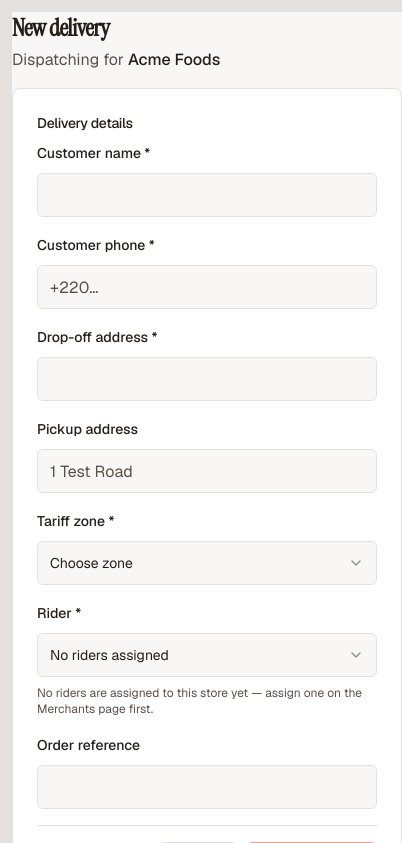
Test: NewDeliveryPage tariff zones › populates the zone dropdown from those rows
The width and height of the screenshot is (402, 843).
What coordinates should you click on to do the following:
click the dropdown named "Tariff zone *"
I would click on:
 (91, 563)
Its box is [37,541,377,585].
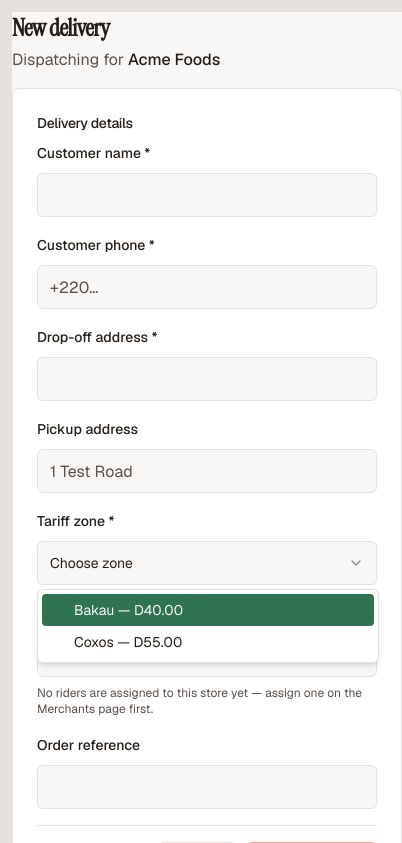
Expected: the text "Bakau — D40.00" is shown, [74,600,183,620]
Expected: the text "Coxos — D55.00" is shown, [74,632,182,652]
